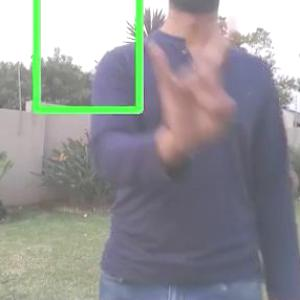takeoff-hand: (136, 0, 244, 151)
